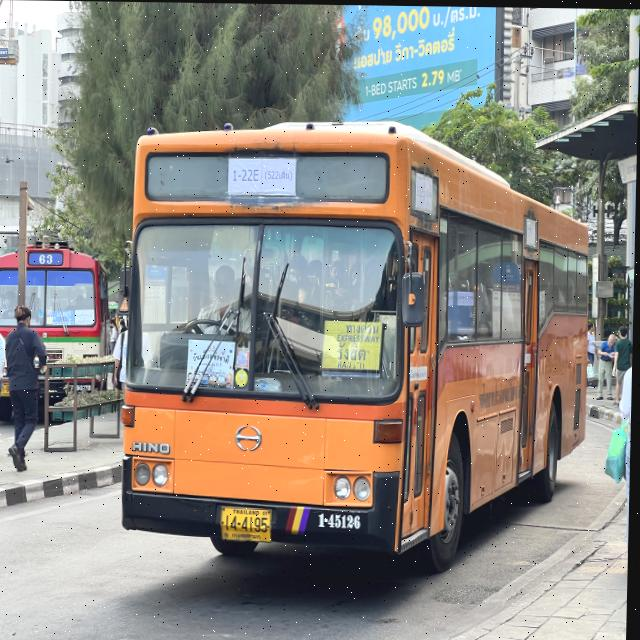BMTA-bus: (117, 119, 597, 572), (0, 242, 122, 418)
Bus-Line-Number: (228, 153, 299, 201), (38, 252, 56, 264)
Destination-Sign-Normal-Expressway: (319, 317, 385, 373)
